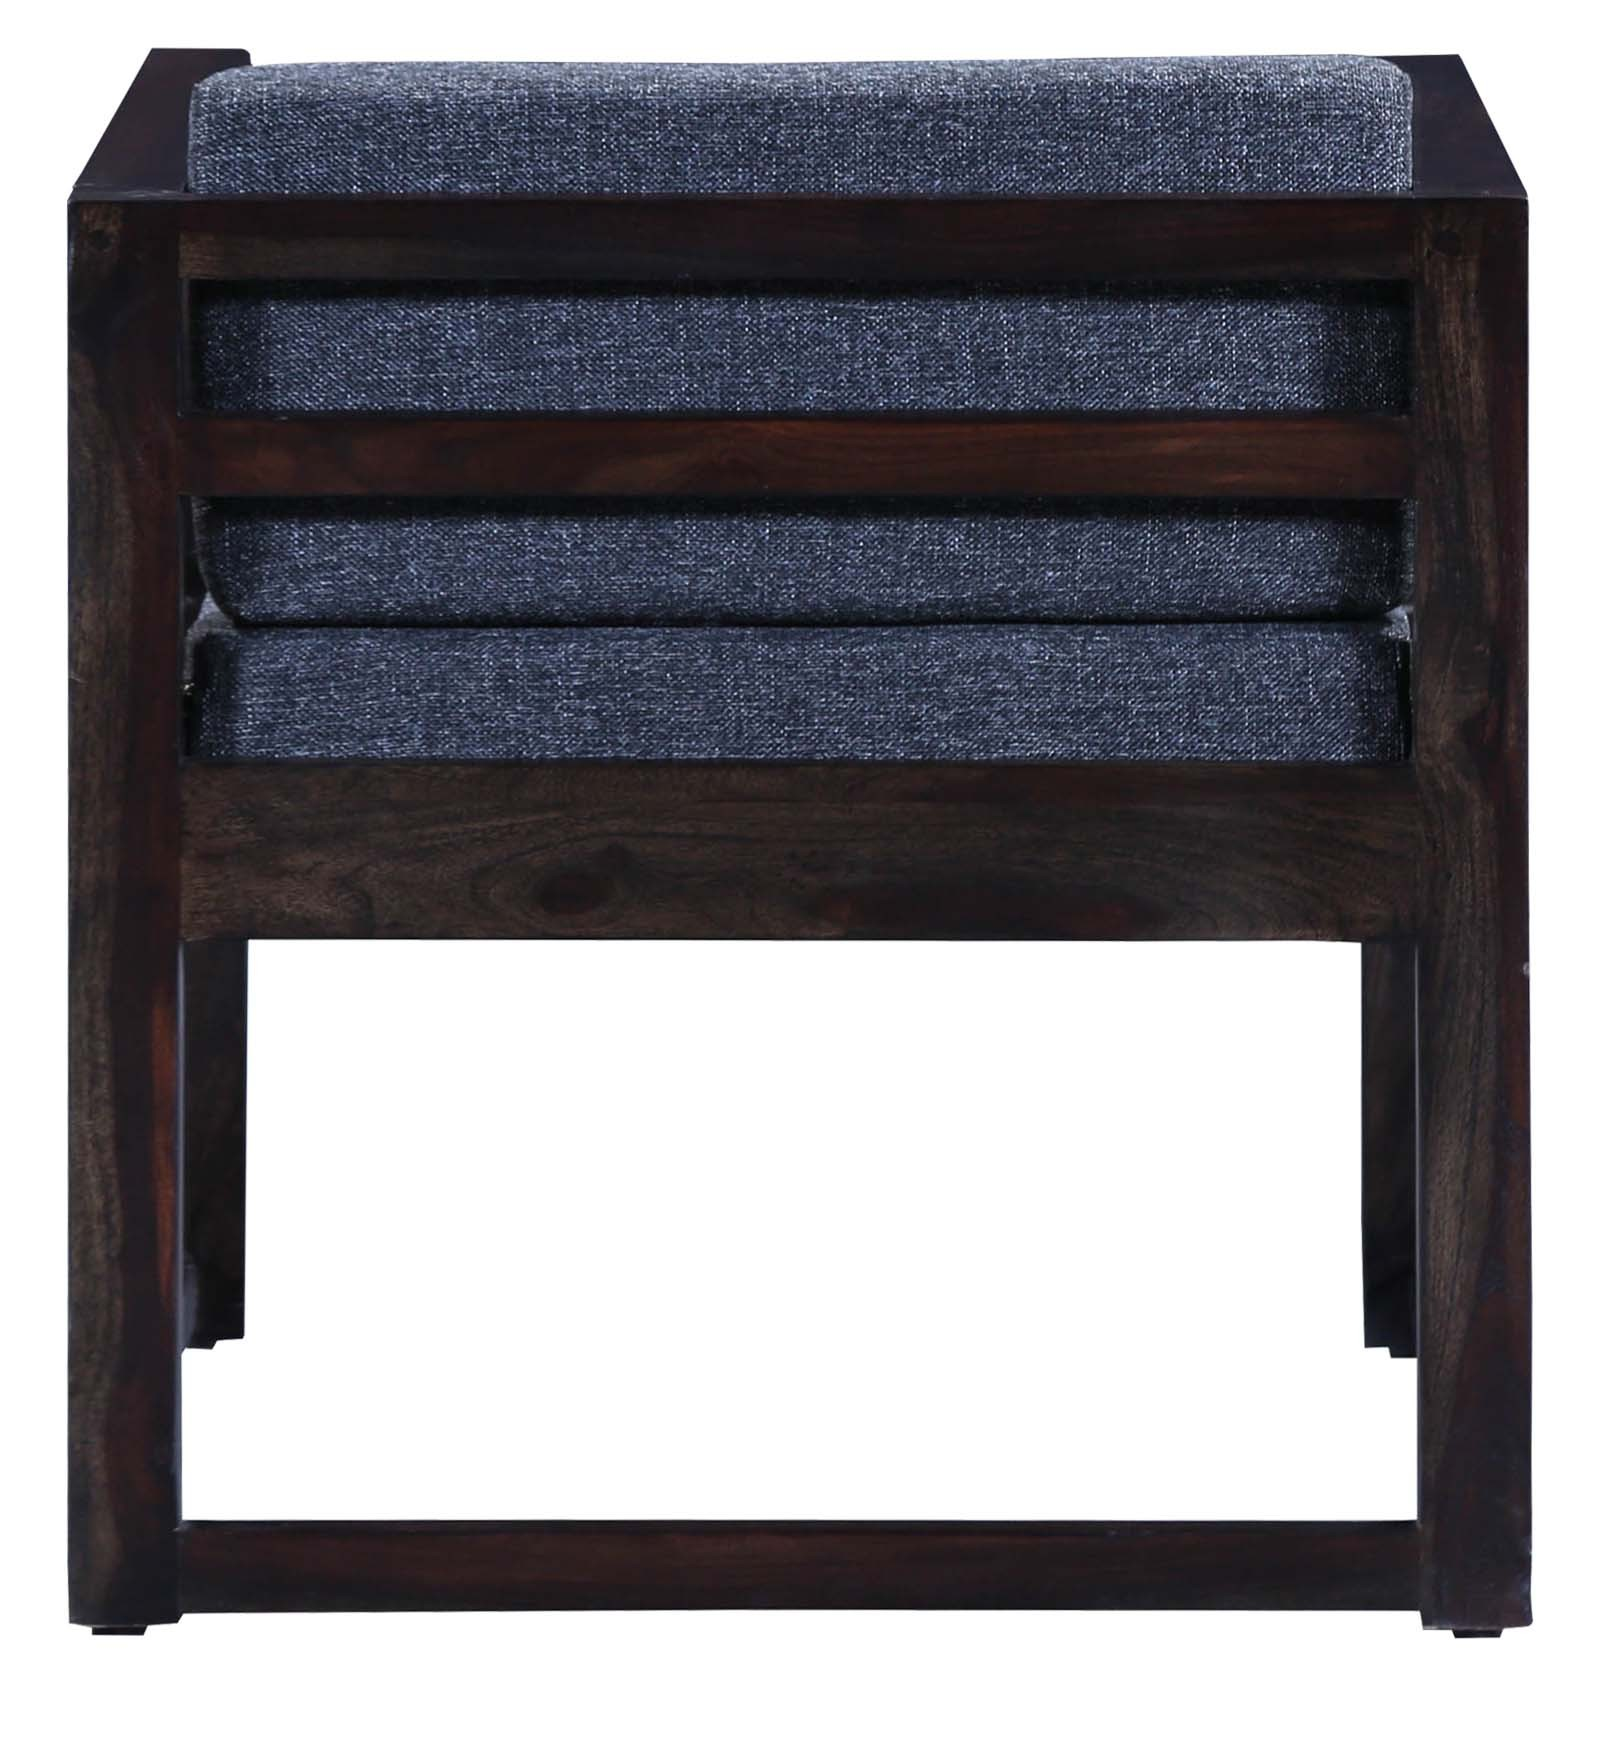Avian Arm Chair in Warm Chestnut Finish by Woodsworth: (35, 26, 1582, 1660)
